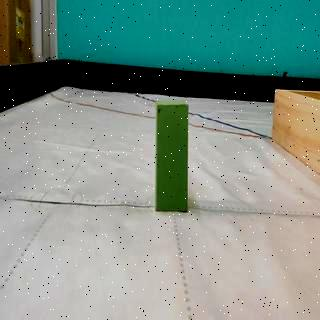greenbox: (154, 102, 192, 214)
